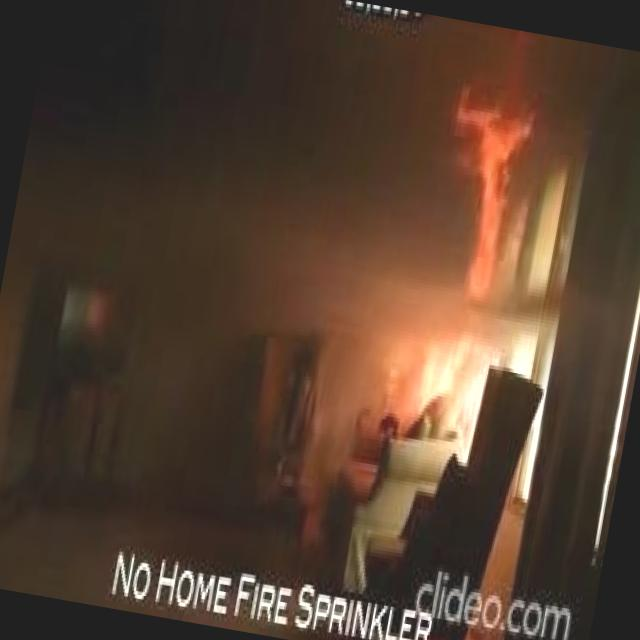fire: (396, 46, 551, 406)
